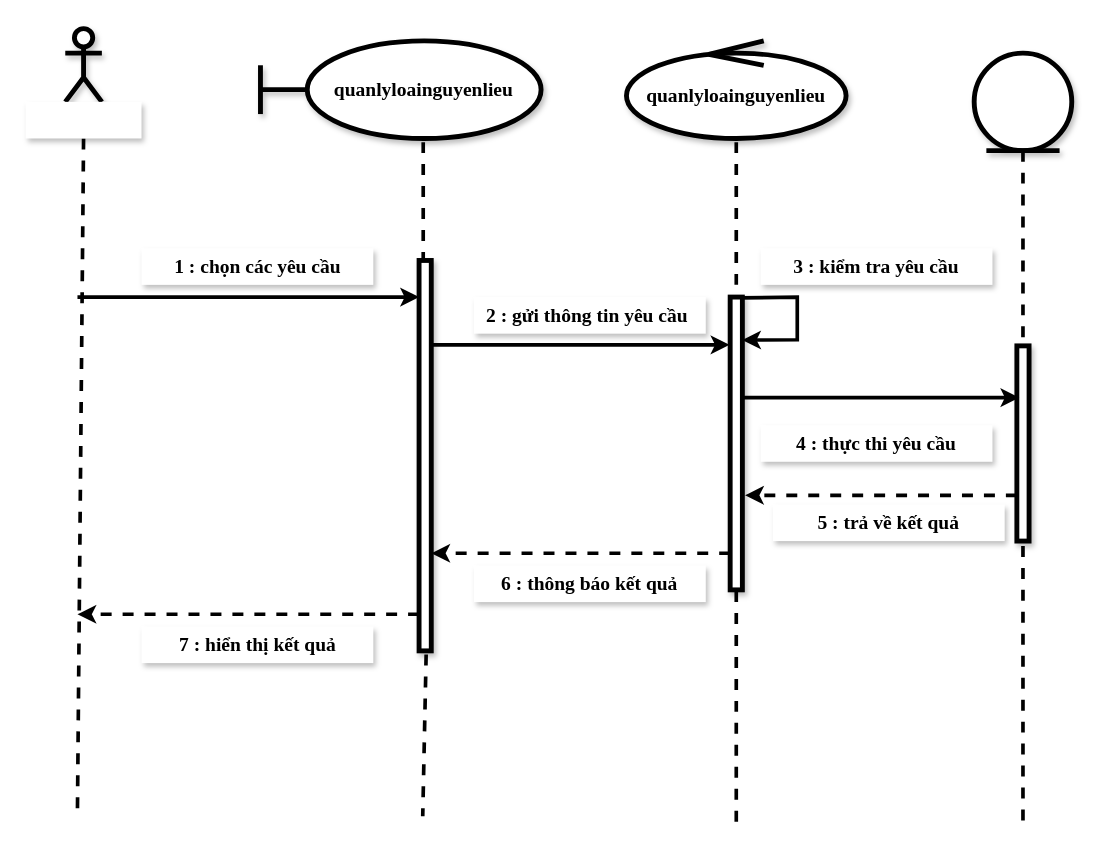
This 1103x845 diagram has some shape labels left out. The centre of each missing label's shape, as x and y in pixels:
"Actor" belongs at point (84, 66).
"admin" belongs at point (84, 121).
"csdl" belongs at point (1023, 103).
